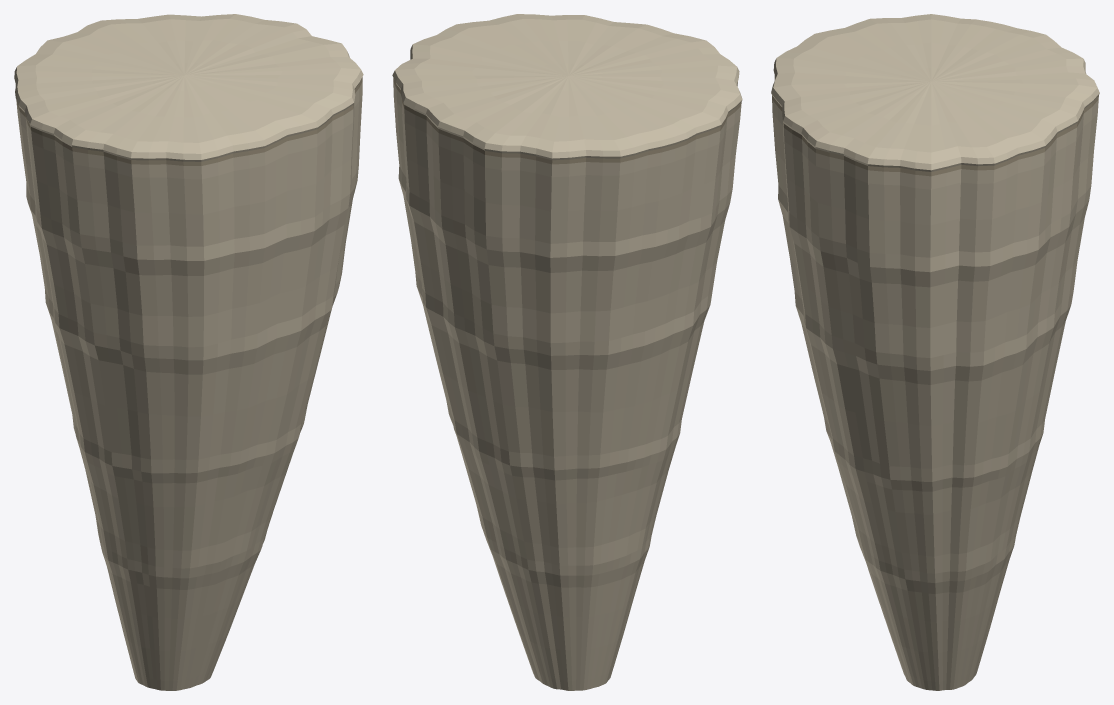
3 views of the same model, side by side, from view 1: azimuth 30°, elevation 25°; view 2: azimuth 150°, elevation 25°; view 3: azimuth 270°, elevation 25° (orthographic).
Parts seen in each view (by area): view 1: Right valve - thick tapered shell, Left valve - restored low operculum; view 2: Right valve - thick tapered shell, Left valve - restored low operculum; view 3: Right valve - thick tapered shell, Left valve - restored low operculum.
Boxes of the visible parts, x1=… form: Right valve - thick tapered shell: x1=15, y1=77, x2=362, y2=690; Left valve - restored low operculum: x1=14, y1=14, x2=363, y2=161; Right valve - thick tapered shell: x1=393, y1=78, x2=741, y2=690; Left valve - restored low operculum: x1=392, y1=14, x2=742, y2=160; Right valve - thick tapered shell: x1=772, y1=75, x2=1098, y2=690; Left valve - restored low operculum: x1=771, y1=14, x2=1099, y2=171.
Bounding box in the file's own units: 0.115 × 0.21 × 0.105.
